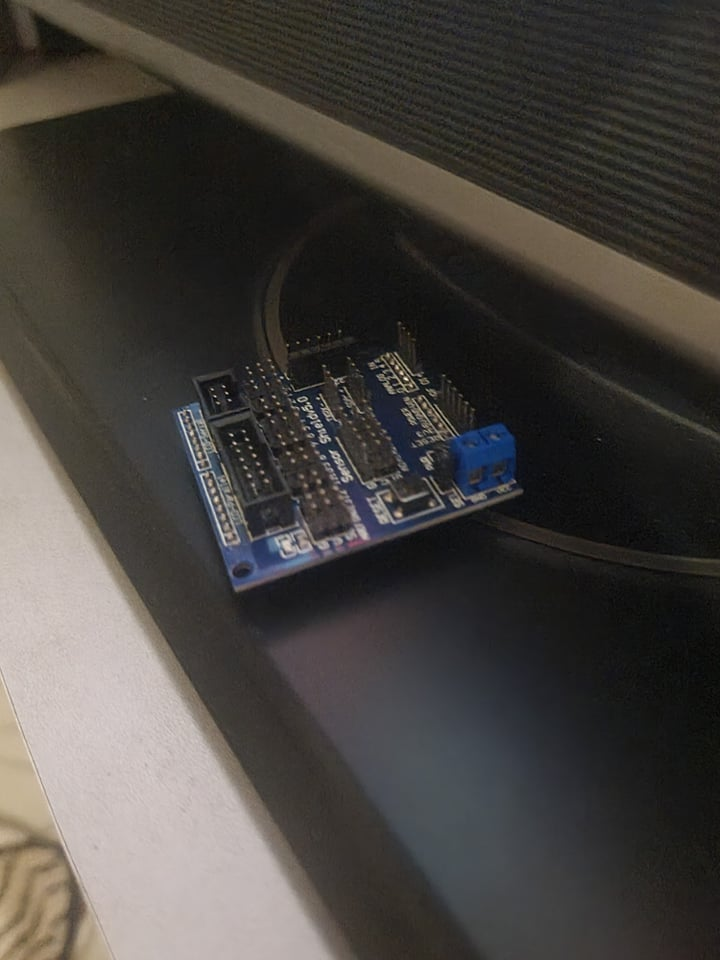5V EXPANSION: (174, 315, 529, 598)
